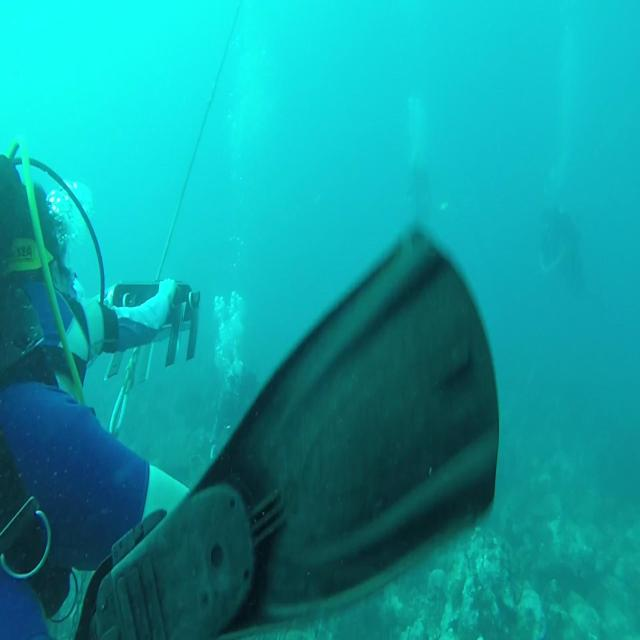human: (0, 149, 200, 637)
